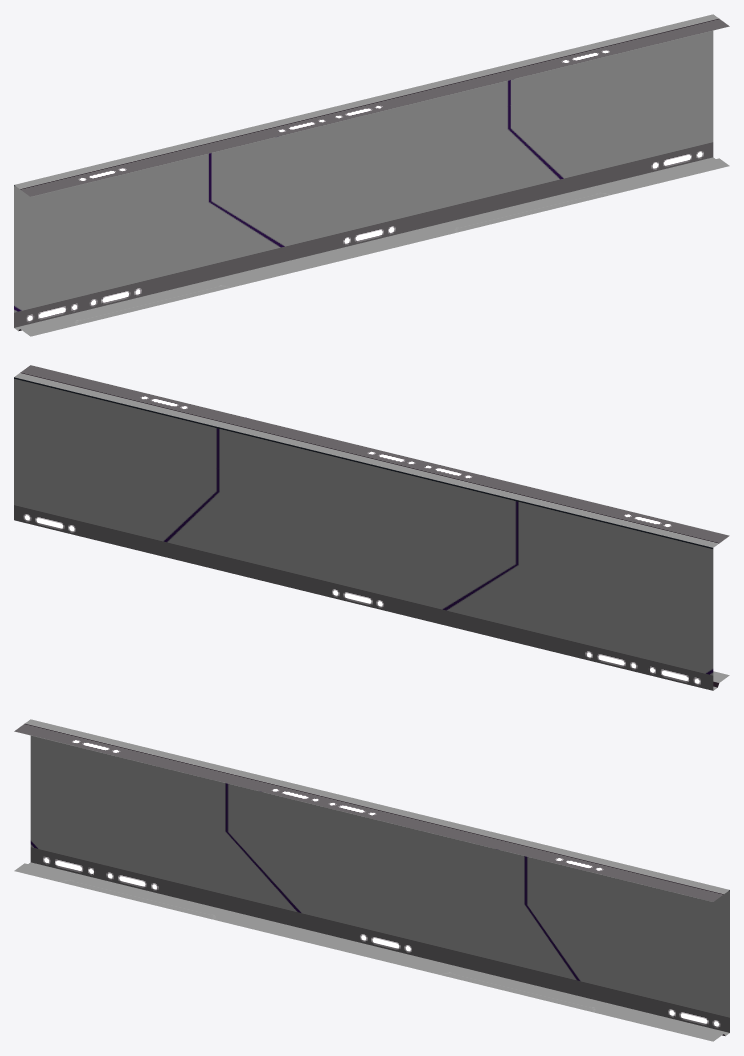
Rendered from SM_SideWalkL1.fbx.
3 renders of one model, top to bottom at view 1: azimuth 30°, elevation 25°; view 2: azimuth 150°, elevation 25°; view 3: azimuth 330°, elevation 25°, orthographic.
Visible parts, largest first — view 1: SM_SideWalkL1; view 2: SM_SideWalkL1; view 3: SM_SideWalkL1.
Boxes of the visible parts, x1,y1,x2,y2 form: SM_SideWalkL1: [14, 14, 729, 336]; SM_SideWalkL1: [14, 365, 729, 690]; SM_SideWalkL1: [14, 719, 729, 1041].
Bounding box in the file's own units: 2877 × 562 × 119.
